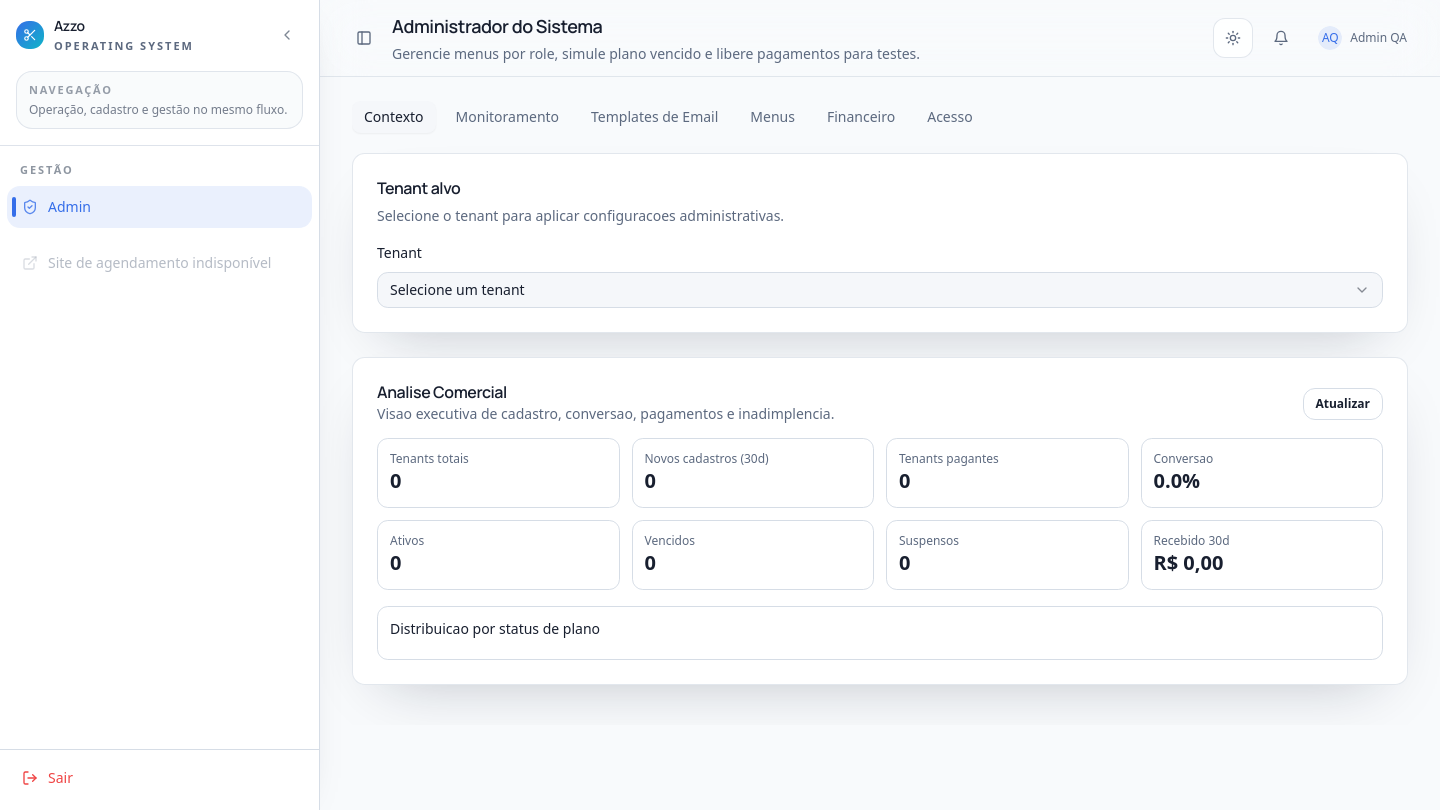
Scenario: SystemAdminPage › should render admin tabs and critical sections
Expected: the tab "Contexto" is shown, x1=352 y1=101 x2=436 y2=133
Expected: the tab "Financeiro" is shown, x1=815 y1=101 x2=907 y2=133
Click the tab "Menus".
click(773, 117)  # box x1=738 y1=101 x2=807 y2=133
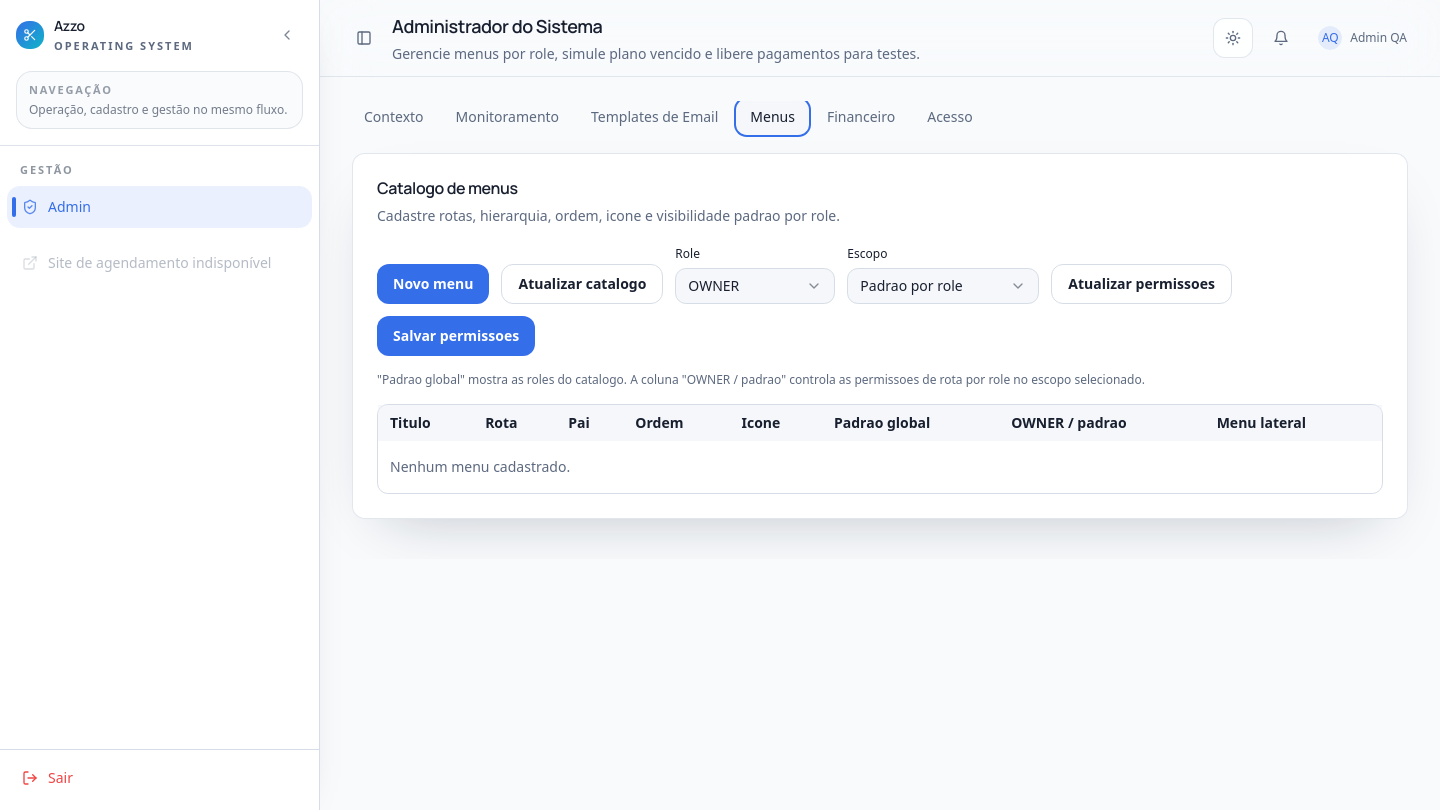
Expected: the button "Novo menu" is shown, x1=377 y1=264 x2=490 y2=304
Click the tab "Financeiro".
click(861, 117)  # box x1=815 y1=101 x2=907 y2=133
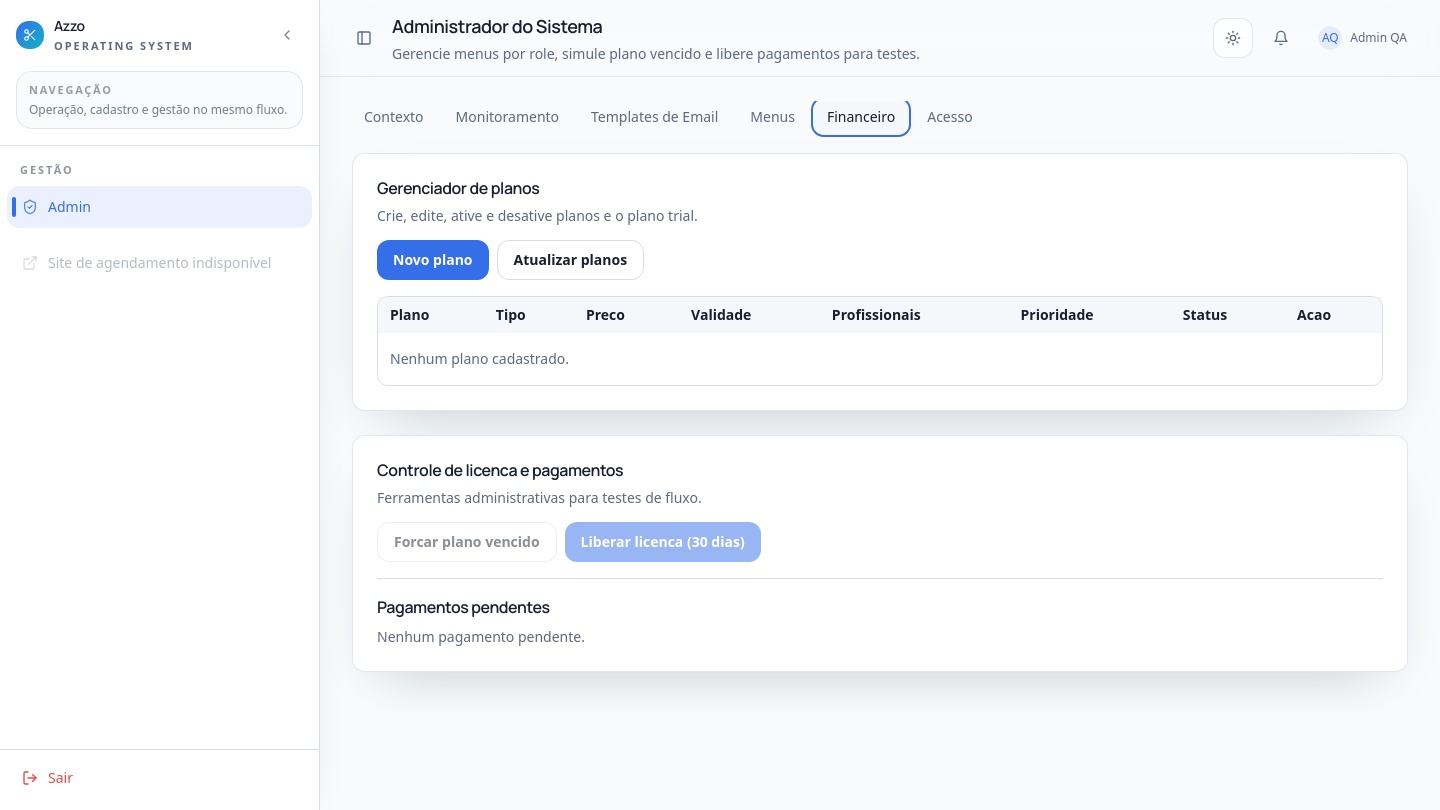
Expected: the button "Novo plano" is shown, x1=377 y1=240 x2=488 y2=280
